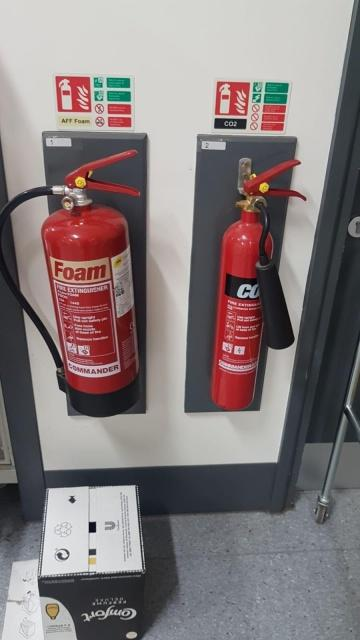APAR: (39, 150, 143, 418), (207, 156, 307, 411)
